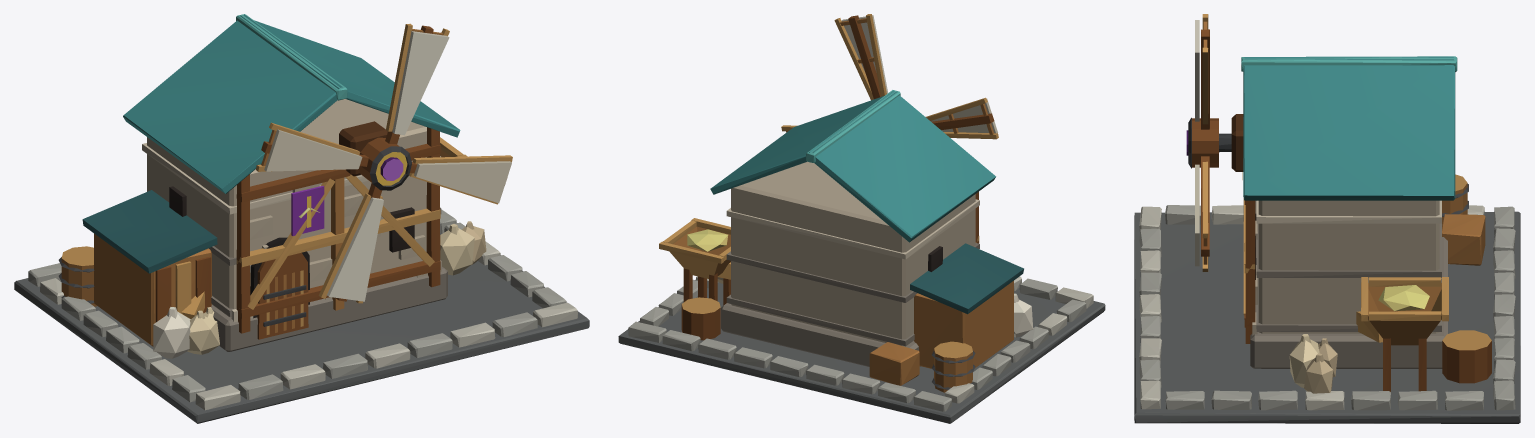
The picture shows the model from 3 angles, left to right: view 1: azimuth 30°, elevation 25°; view 2: azimuth 150°, elevation 25°; view 3: azimuth 270°, elevation 25°; orthographic projection. The views are drawn at different scales.
Visible parts, largest first — view 1: WK_CityMill_LOD1_Balanced; view 2: WK_CityMill_LOD1_Balanced; view 3: WK_CityMill_LOD1_Balanced.
Part boxes in pixels (box(x1,y1,x2,y2)): WK_CityMill_LOD1_Balanced: box(14, 14, 589, 423); WK_CityMill_LOD1_Balanced: box(618, 14, 1105, 423); WK_CityMill_LOD1_Balanced: box(1134, 14, 1520, 423).
Size of the model in its own units: 9.3 by 7.12 by 7.47.
